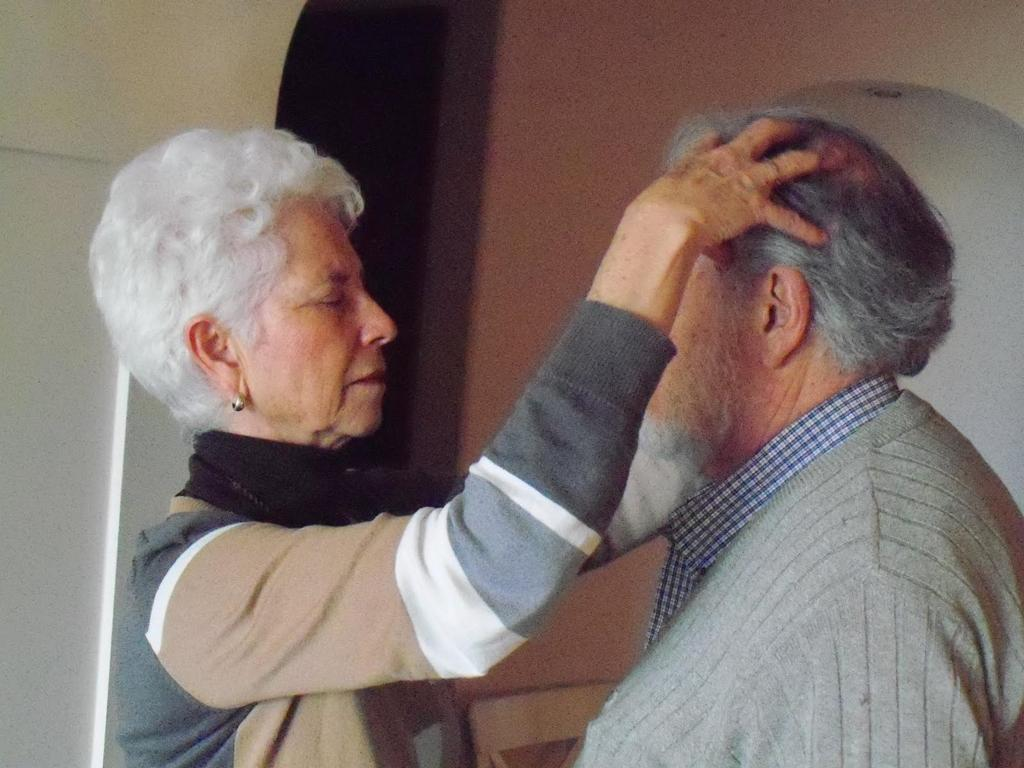face: (268, 174, 396, 438)
